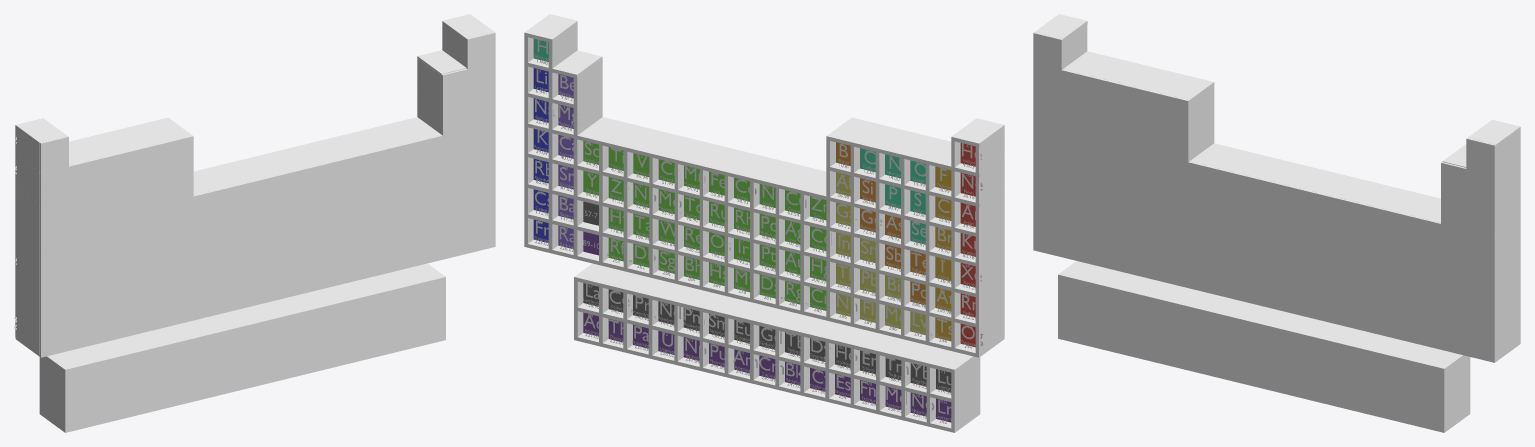
Rendered from PeriodicTable.glb.
3 views of the same model, side by side, from view 1: azimuth 30°, elevation 25°; view 2: azimuth 150°, elevation 25°; view 3: azimuth 330°, elevation 25° (orthographic).
Parts seen in each view (by area): view 1: Back Board 1_487, Back Board 2_488, Table Border 1_485, Table Border 2_486; view 2: Table Border 1_485, Table Border 2_486, Green_4, Violet_3, Gray_2, Beige_6, Orange_5, Red_11, Gold_12, Turquoise_8, Blue_9, Lavender_10 (+1 smaller); view 3: Back Board 1_487, Back Board 2_488, Table Border 1_485, Table Border 2_486.
Part boxes in pixels (box(x1,y1,x2,y2)): Back Board 1_487: box(39, 32, 495, 357); Back Board 2_488: box(64, 275, 445, 432); Table Border 1_485: box(15, 14, 494, 355); Table Border 2_486: box(39, 263, 443, 431); Table Border 1_485: box(524, 15, 1003, 357); Table Border 2_486: box(574, 263, 979, 432); Green_4: box(583, 141, 826, 310); Violet_3: box(583, 312, 951, 422); Gray_2: box(583, 283, 951, 392); Beige_6: box(836, 172, 925, 334); Orange_5: box(836, 142, 925, 304); Red_11: box(960, 143, 975, 347); Gold_12: box(935, 166, 951, 341); Turquoise_8: box(860, 148, 925, 244); Blue_9: box(533, 68, 548, 242); Lavender_10: box(558, 74, 573, 248); Back Board 1_487: box(1033, 32, 1495, 362); Back Board 2_488: box(1058, 273, 1445, 432); Table Border 1_485: box(1034, 14, 1520, 361); Table Border 2_486: box(1060, 261, 1470, 431).
Bounding box in the file's own units: 1.38 × 0.8509 × 0.1334.
